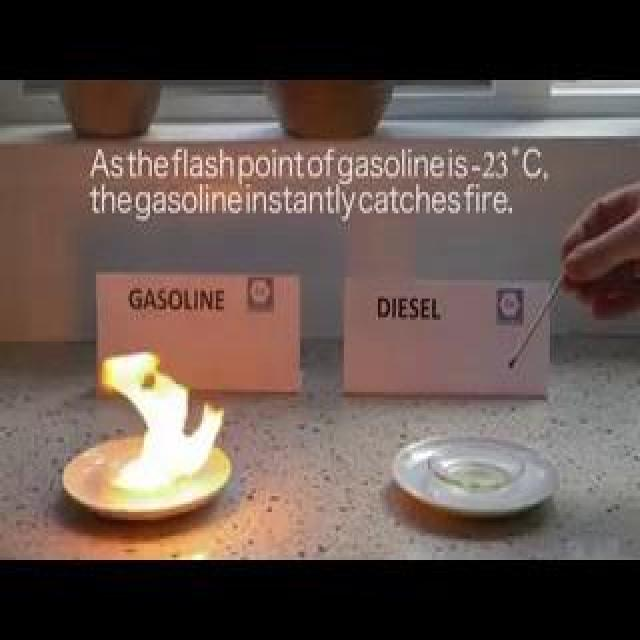Fire: (115, 304, 231, 499)
